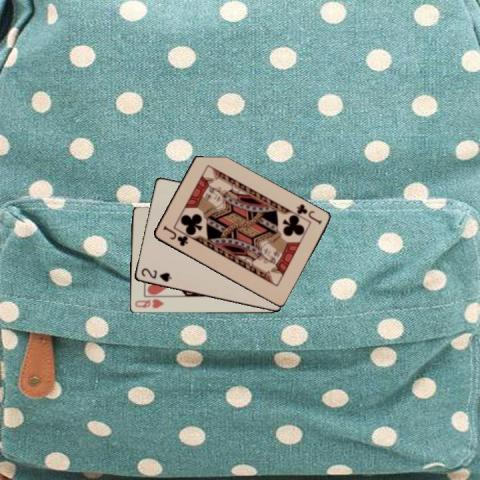2s: (138, 266, 173, 284)
Jc: (160, 223, 190, 248), (293, 201, 323, 226)
Qh: (132, 296, 166, 309)
